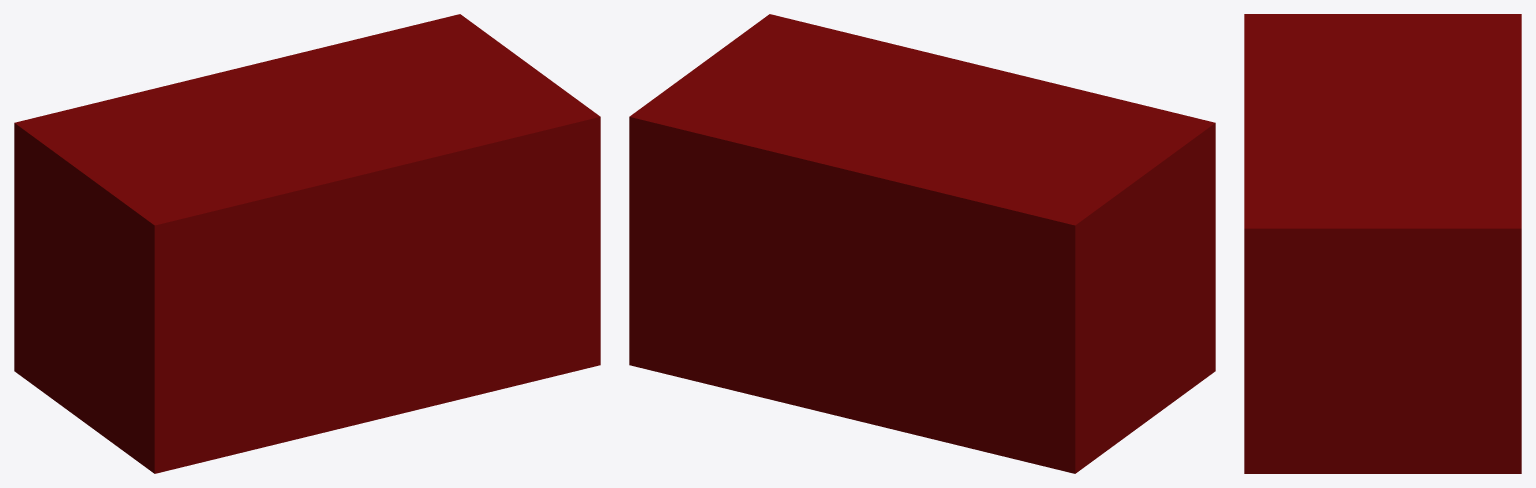
File: tub.fbx
3 views of the same model, side by side, from view 1: azimuth 30°, elevation 25°; view 2: azimuth 150°, elevation 25°; view 3: azimuth 270°, elevation 25° (orthographic).
Parts seen in each view (by area): view 1: tub_Col; view 2: tub_Col; view 3: tub_Col.
Boxes of the visible parts, box(x1,y1,x2,y2) form: tub_Col: box(14, 14, 600, 473); tub_Col: box(629, 14, 1215, 473); tub_Col: box(1244, 14, 1521, 473).
Bounding box in the file's own units: 191 × 101 × 104.
